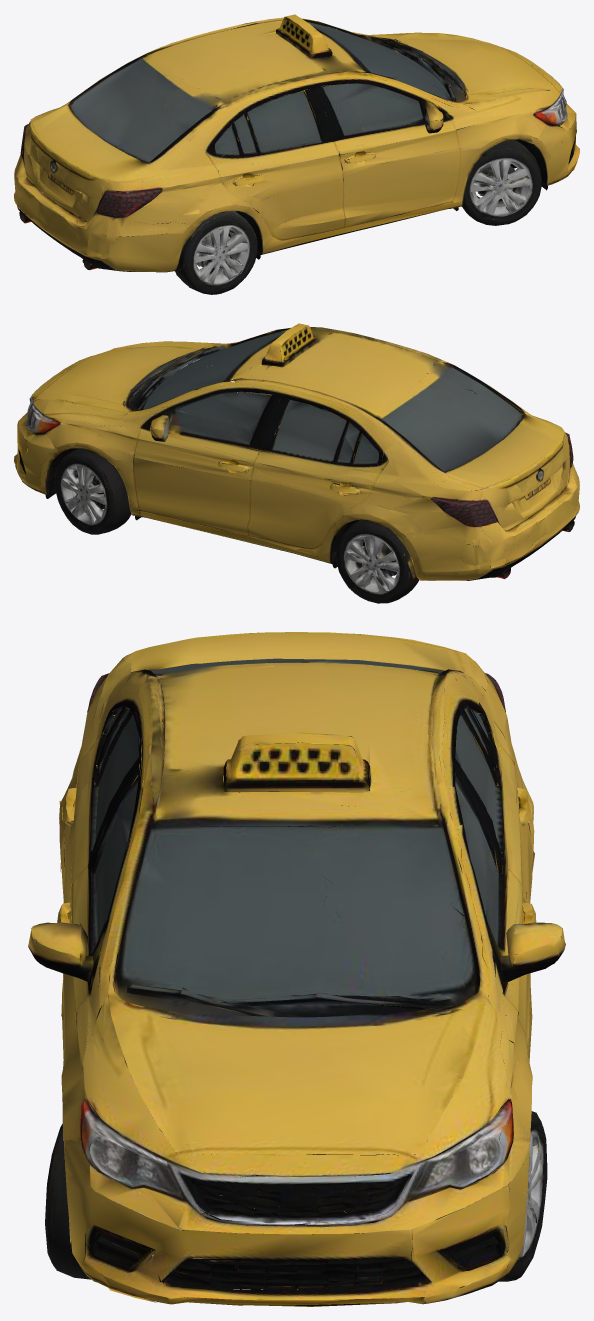
File: traffic_taxi.glb
3 renders of one model, top to bottom at view 1: azimuth 30°, elevation 25°; view 2: azimuth 150°, elevation 25°; view 3: azimuth 270°, elevation 25°, orthographic. The views are drawn at different scales.
Visible parts, largest first — view 1: Body, Wheel_FR, Wheel_RR; view 2: Body, Wheel_FL, Wheel_RL; view 3: Body, Wheel_FR, Wheel_FL.
Part boxes in pixels (x1,y1,x2,y2): Body: [14, 14, 579, 284]; Wheel_FR: [462, 135, 550, 225]; Wheel_RR: [175, 211, 262, 294]; Body: [14, 323, 579, 591]; Wheel_FL: [43, 442, 134, 534]; Wheel_RL: [331, 519, 418, 603]; Body: [28, 632, 565, 1306]; Wheel_FR: [45, 1099, 126, 1279]; Wheel_FL: [435, 1099, 547, 1281].
Bounding box in the file's own units: 1 × 0.3718 × 0.4608.
Materials: 1 (1 with a texture image).
